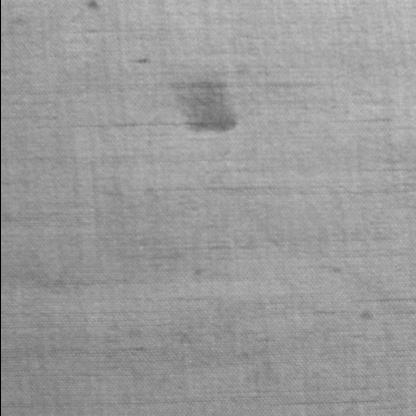oil spot: (164, 78, 240, 134)
